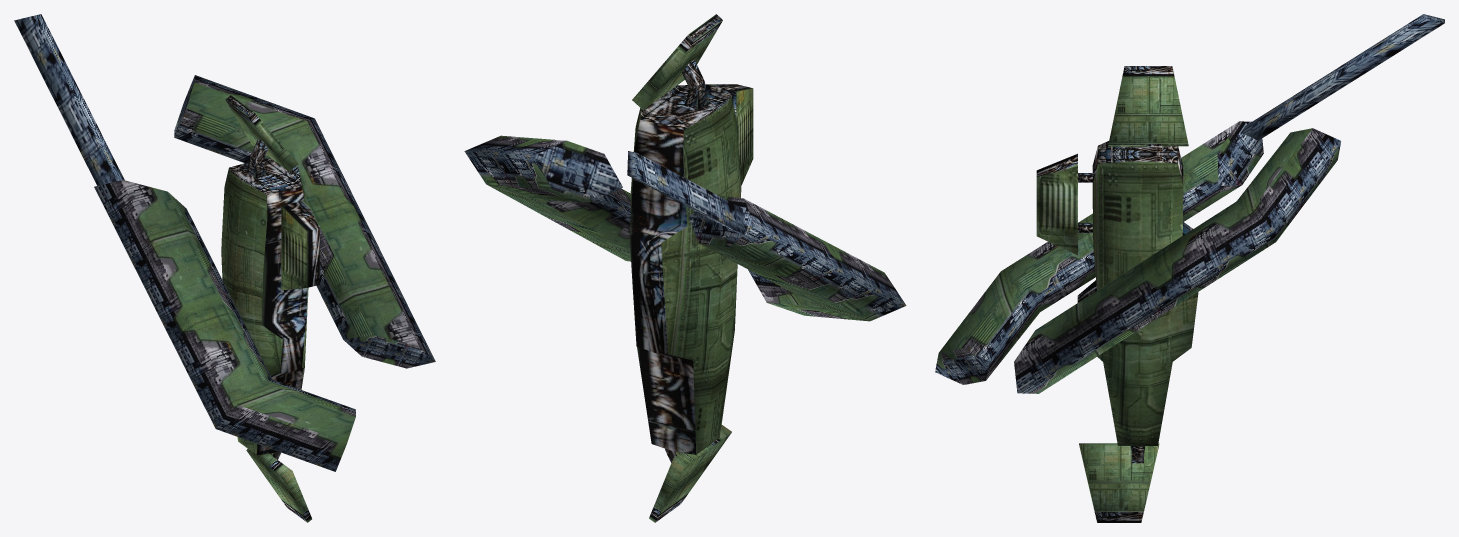
Rendered from MIsensorplat.fbx.
3 renders of one model, left to right at view 1: azimuth 30°, elevation 25°; view 2: azimuth 150°, elevation 25°; view 3: azimuth 270°, elevation 25°, orthographic. The views are drawn at different scales.
Parts seen in each view (by area): view 1: Cube.001; view 2: Cube.001; view 3: Cube.001.
Boxes of the visible parts, x1,y1,x2,y2 form: Cube.001: [14, 14, 435, 522]; Cube.001: [464, 14, 906, 522]; Cube.001: [935, 14, 1444, 522].
Size of the model in its own units: 6.17 by 11.01 by 11.37.
Materials: 4 (4 with a texture image).
